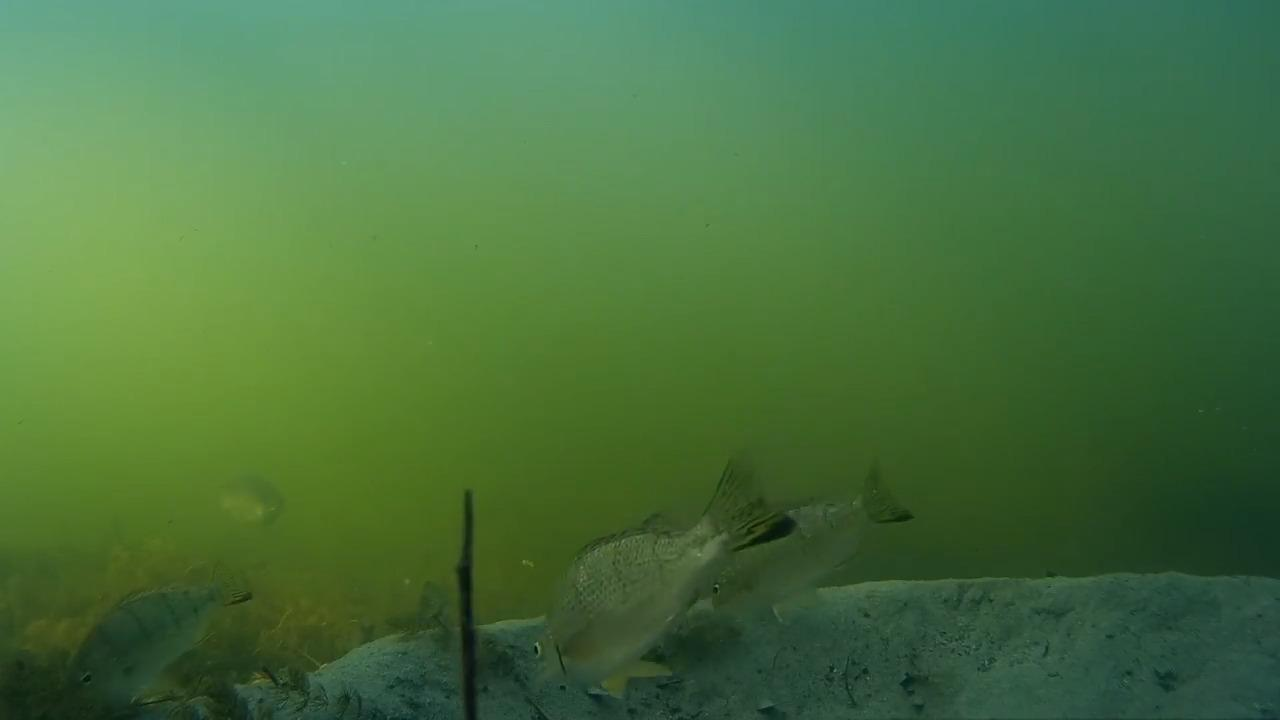Tilapia: (534, 446, 895, 706), (696, 464, 975, 656), (16, 574, 269, 714), (187, 450, 292, 548)
